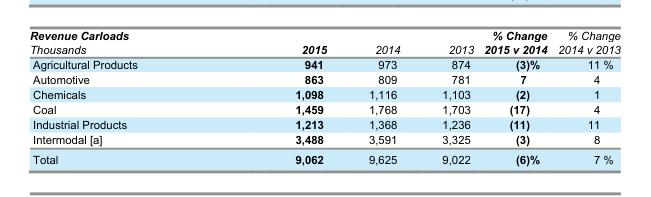table: (28, 28, 619, 165)
table column: (28, 28, 215, 165), (215, 28, 346, 165), (346, 28, 420, 165), (478, 28, 551, 165), (551, 28, 619, 165), (420, 28, 478, 165)
table column header: (28, 28, 619, 56)
table row: (28, 28, 619, 56), (28, 131, 619, 149), (28, 149, 619, 165), (28, 56, 619, 71), (28, 71, 619, 86), (28, 86, 619, 101), (28, 101, 619, 116), (28, 116, 619, 131)
